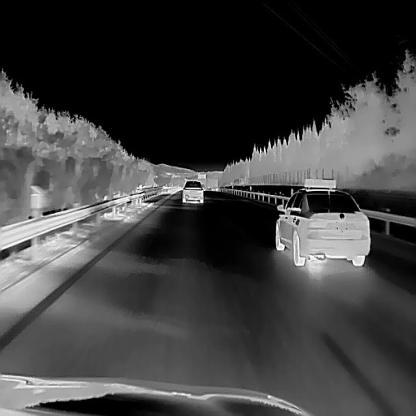car: (275, 177, 370, 266), (181, 178, 203, 202)
